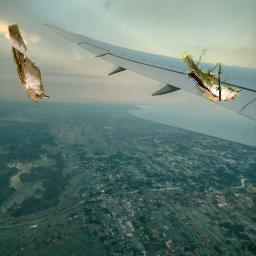Cuckoo: (9, 24, 50, 103), (181, 49, 241, 101)
